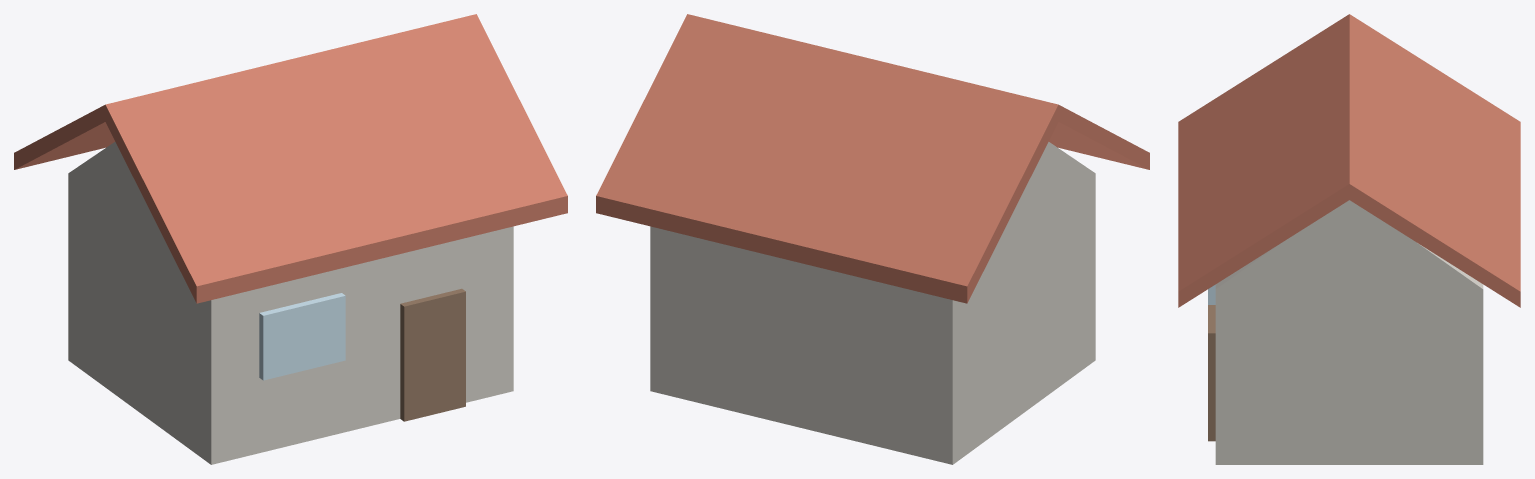
The model's file is house_lo.glb.
3 views of the same model, side by side, from view 1: azimuth 30°, elevation 25°; view 2: azimuth 150°, elevation 25°; view 3: azimuth 270°, elevation 25° (orthographic). The views are drawn at different scales.
Visible parts, largest first — view 1: house_lo; view 2: house_lo; view 3: house_lo.
Boxes of the visible parts, x1,y1,x2,y2 form: house_lo: [14, 14, 567, 464]; house_lo: [596, 14, 1149, 464]; house_lo: [1178, 14, 1520, 464].
Bounding box in the file's own units: 2.7 × 2.2 × 2.3.
